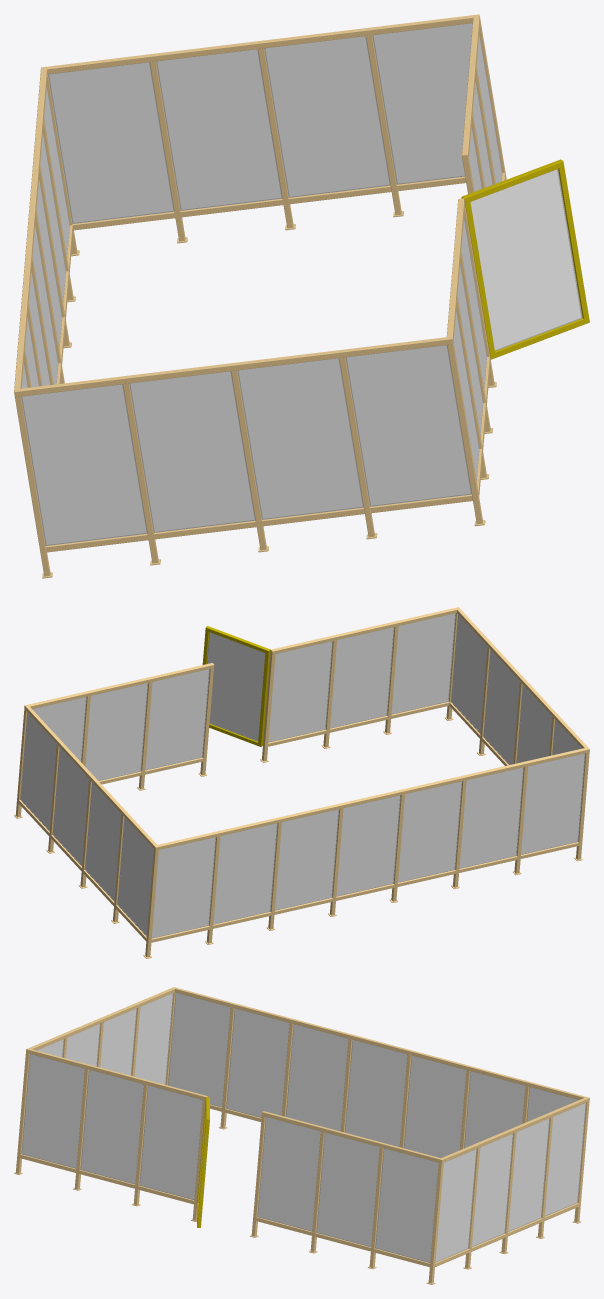
File: fanghugewang.glb
The picture shows the model from 3 angles, top to bottom: view 1: azimuth 30°, elevation 25°; view 2: azimuth 150°, elevation 25°; view 3: azimuth 270°, elevation 25°; orthographic projection. The views are drawn at different scales.
Parts seen in each view (by area): view 1: 围栏(默认_按加工_)-1, 栅格网-3, 栅格网-9, 栅格网-16, 栅格网-15, 栅格网-2, 栅格网-4, 栅格网-19, 栅格网-10, 栅格网-14, 栅格网门(默认_按加工_)-1, 栅格网-20 (+9 smaller); view 2: 围栏(默认_按加工_)-1, 栅格网-7, 栅格网-11, 栅格网-12, 栅格网-22, 栅格网-8, 栅格网-13, 栅格网-17, 栅格网-18, 栅格网-20, 栅格网-5, 栅格网-21 (+12 smaller); view 3: 围栏(默认_按加工_)-1, 栅格网-1, 栅格网-6, 栅格网-18, 栅格网-17, 栅格网-21, 栅格网-5, 栅格网-8, 栅格网-12, 栅格网-22, 栅格网-11, 栅格网-13 (+10 smaller).
Part boxes in pixels (bbox=[...]): 围栏(默认_按加工_)-1: bbox=[14, 14, 506, 578]; 栅格网-3: bbox=[21, 384, 147, 545]; 栅格网-9: bbox=[345, 345, 471, 506]; 栅格网-16: bbox=[48, 62, 174, 223]; 栅格网-15: bbox=[264, 36, 390, 197]; 栅格网-2: bbox=[237, 358, 363, 519]; 栅格网-4: bbox=[156, 49, 282, 210]; 栅格网-19: bbox=[129, 371, 255, 532]; 栅格网-10: bbox=[470, 169, 582, 350]; 栅格网-14: bbox=[372, 23, 472, 184]; 栅格网门(默认_按加工_)-1: bbox=[461, 159, 589, 359]; 栅格网-20: bbox=[44, 85, 69, 257]; 围栏(默认_按加工_)-1: bbox=[14, 607, 589, 958]; 栅格网-7: bbox=[213, 823, 277, 924]; 栅格网-11: bbox=[336, 795, 400, 896]; 栅格网-12: bbox=[521, 753, 585, 854]; 栅格网-22: bbox=[398, 781, 462, 882]; 栅格网-8: bbox=[459, 767, 523, 868]; 栅格网-13: bbox=[275, 809, 339, 910]; 栅格网-17: bbox=[391, 613, 455, 714]; 栅格网-18: bbox=[268, 641, 332, 742]; 栅格网-20: bbox=[152, 837, 216, 938]; 栅格网-5: bbox=[145, 669, 209, 770]; 栅格网-21: bbox=[330, 627, 394, 728]; 围栏(默认_按加工_)-1: bbox=[14, 987, 589, 1284]; 栅格网-1: bbox=[316, 1132, 379, 1247]; 栅格网-6: bbox=[375, 1148, 438, 1262]; 栅格网-18: bbox=[139, 1085, 202, 1199]; 栅格网-17: bbox=[21, 1054, 84, 1168]; 栅格网-21: bbox=[80, 1069, 143, 1184]; 栅格网-5: bbox=[257, 1117, 320, 1231]; 栅格网-8: bbox=[226, 1008, 289, 1117]; 栅格网-12: bbox=[168, 992, 230, 1107]; 栅格网-22: bbox=[285, 1024, 348, 1131]; 栅格网-11: bbox=[344, 1040, 407, 1146]; 栅格网-13: bbox=[403, 1055, 466, 1157].
Bounding box in the file's own units: 7.84 × 2.77 × 8.78.
